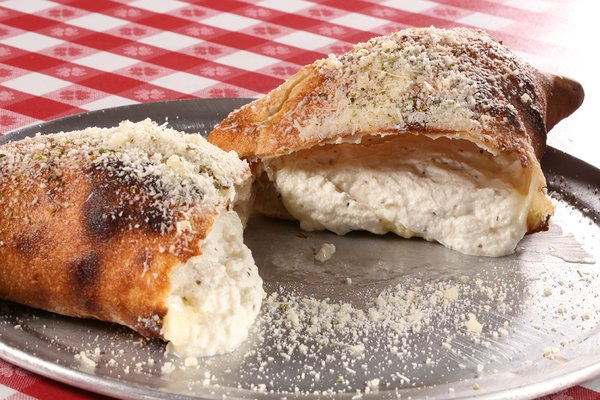soup: (206, 24, 581, 257)
